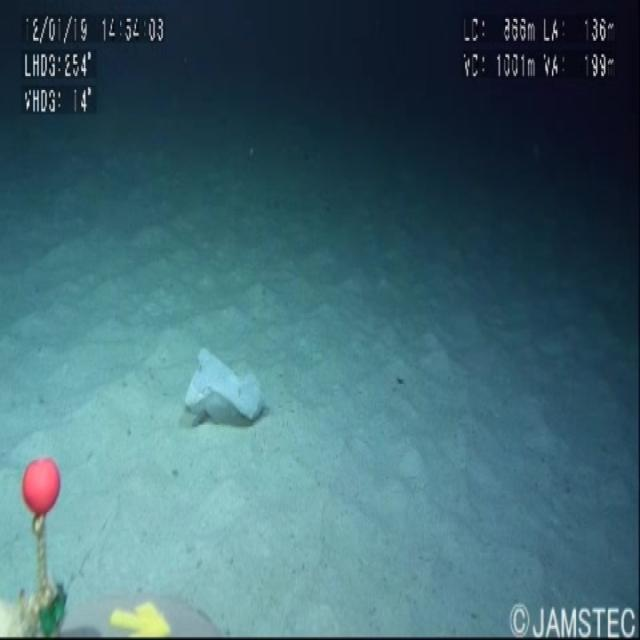Plastic: (170, 328, 275, 486)
